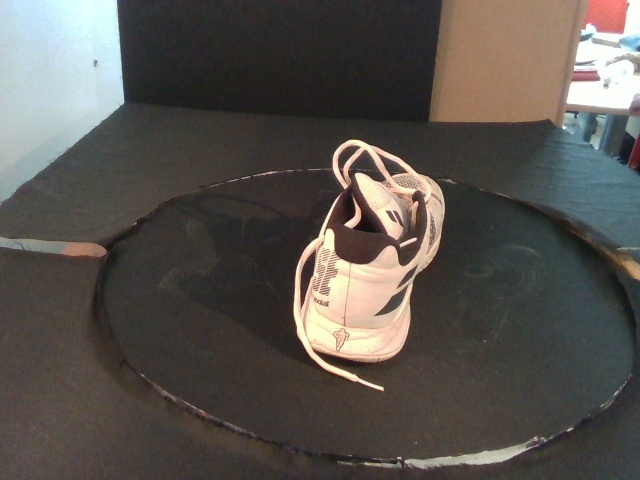shoe: (295, 172, 446, 364)
